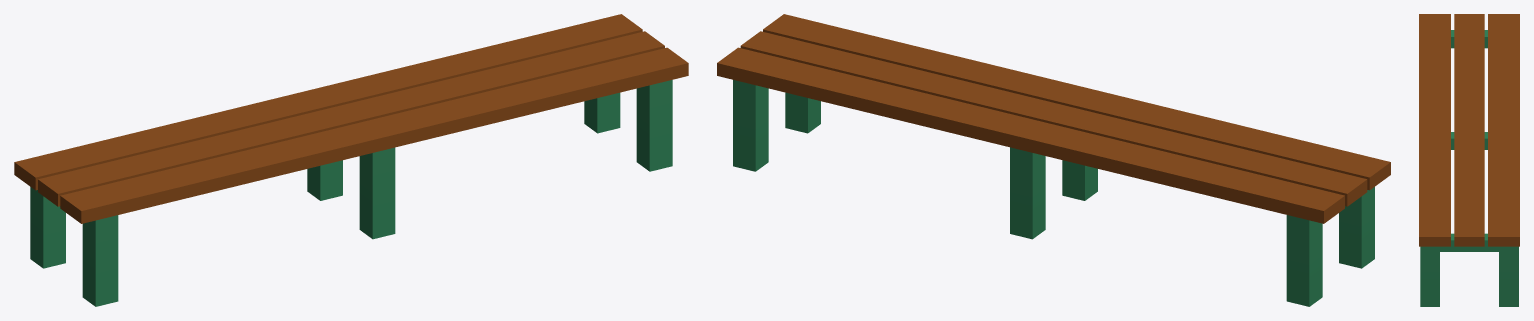
Rendered from Bench_1_C_3.fbx.
The picture shows the model from 3 angles, left to right: view 1: azimuth 30°, elevation 25°; view 2: azimuth 150°, elevation 25°; view 3: azimuth 270°, elevation 25°; orthographic projection. The views are drawn at different scales.
Parts seen in each view (by area): view 1: Bench_1_C_3; view 2: Bench_1_C_3; view 3: Bench_1_C_3.
Boxes of the visible parts, box(x1,y1,x2,y2) form: Bench_1_C_3: box(14, 14, 688, 306); Bench_1_C_3: box(717, 14, 1390, 306); Bench_1_C_3: box(1419, 14, 1519, 306).
Size of the model in its own units: 213 by 33.54 by 40.68.
